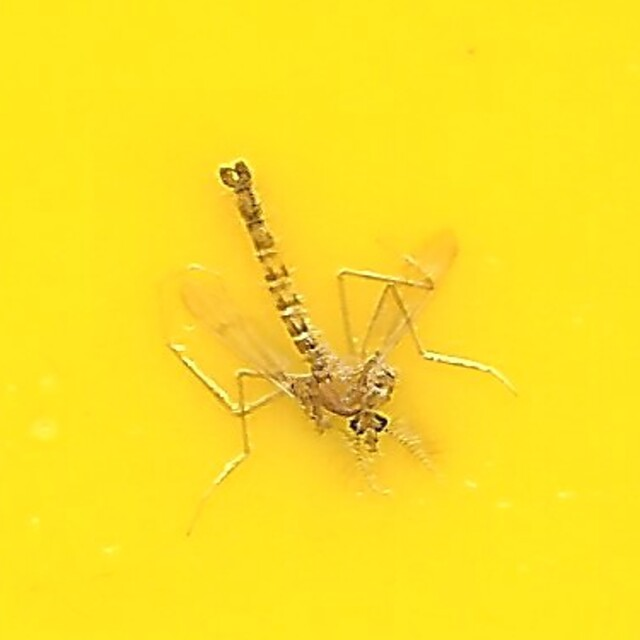Nematocera: (171, 154, 469, 486)
